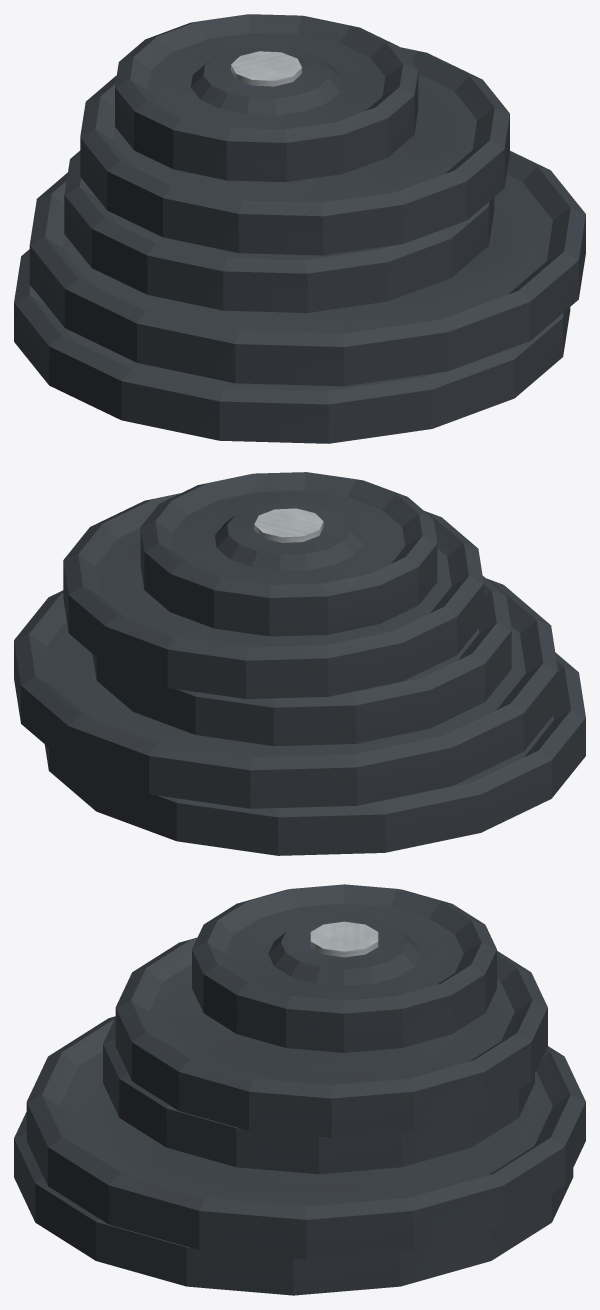
The model's file is weight_plates.fbx.
3 renders of one model, top to bottom at view 1: azimuth 30°, elevation 25°; view 2: azimuth 150°, elevation 25°; view 3: azimuth 270°, elevation 25°, orthographic. The views are drawn at different scales.
Parts seen in each view (by area): view 1: weight_plates; view 2: weight_plates; view 3: weight_plates.
Boxes of the visible parts, bbox=[...] form: weight_plates: bbox=[14, 14, 585, 443]; weight_plates: bbox=[14, 472, 585, 855]; weight_plates: bbox=[14, 884, 585, 1295].
Bounding box in the file's own units: 0.46 × 0.209 × 0.45.
Materials: 1 (1 with a texture image).
